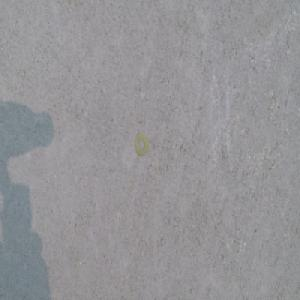Washer: (135, 132, 149, 157)
